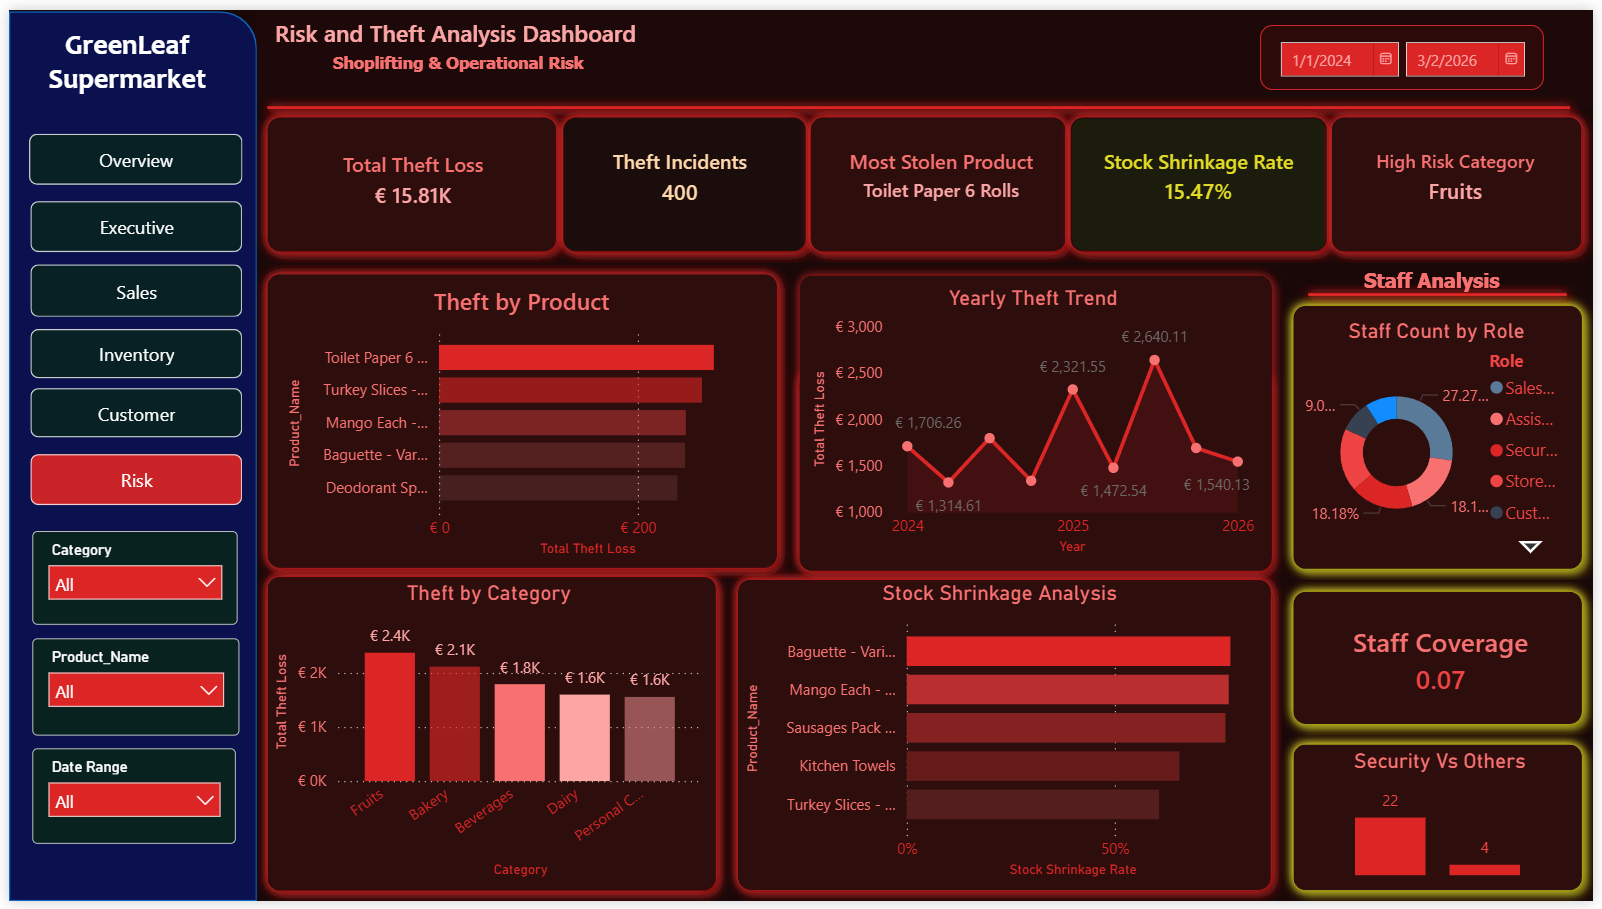

This screenshot's page, from the dashboard's own definition file:
{"tool":"powerbi","page":{"name":"Risk ","canvas":[1280,720],"ordinal":5},"visuals":[{"type":"group","id":"g1","title":"Group 1","box":[0,0,1280.3,720.4],"z":0},{"type":"shape","box":[200.3,0,1079.9,78.2],"z":0,"group":"g1"},{"type":"shape","box":[200.3,0,1079.9,78.2],"z":0,"group":"g2"},{"type":"shape","box":[0,1.4,200.3,719],"z":0,"group":"g3"},{"type":"shape","box":[0,1.4,200.3,719],"z":0,"group":"g7"},{"type":"shape","box":[1029.1,461.1,251.1,124.9],"z":0,"group":"g6"},{"type":"group","id":"g2","title":"Group 1","box":[0,0,1280.3,720.4],"z":1000},{"type":"textbox","box":[209.9,0,306,49.4],"z":1000,"group":"g1"},{"type":"actionButton","box":[11,100.2,182.5,41.2],"z":1000,"group":"g3"},{"type":"actionButton","box":[11,100.2,182.5,41.2],"z":1000,"group":"g7"},{"type":"shape","box":[1029.2,461.1,251.1,124.9],"z":1000,"group":"g2"},{"type":"shape","box":[1029.1,584.6,251.1,135.8],"z":1000,"group":"g6"},{"type":"textbox","box":[209.9,0,306,49.4],"z":2000,"group":"g2"},{"type":"textbox","box":[256.6,27.4,259.3,31.6],"z":2000,"group":"g1"},{"type":"actionButton","box":[12.3,155.1,181.1,41.2],"z":2000,"group":"g3"},{"type":"actionButton","box":[12.3,155.1,181.1,41.2],"z":2000,"group":"g7"},{"type":"shape","box":[200.3,448.8,380.1,271.7],"z":2000,"group":"g6"},{"type":"shape","box":[200.3,64.5,1070.3,28.8],"z":3000,"group":"g1"},{"type":"shape","box":[580.4,451.5,448.7,269],"z":3000,"group":"g6"},{"type":"shape","box":[1029.2,584.6,251.1,135.8],"z":3000,"group":"g2"},{"type":"slicer","fields":{"Values":["Theftlog_dataset.Date"]},"box":[1011.3,12.3,229.2,52.1],"z":4000,"group":"g1"},{"type":"textbox","box":[256.6,27.4,259.3,31.6],"z":4000,"group":"g2"},{"type":"actionButton","box":[12.3,205.9,181.1,42.5],"z":4000,"group":"g3"},{"type":"actionButton","box":[12.3,205.9,181.1,42.5],"z":4000,"group":"g7"},{"type":"clusteredColumnChart","title":"Theft by Category","fields":{"Category":["Products_dataset.Category"],"Y":["Theftlog_dataset.Total Theft Loss"]},"box":[209.9,461.1,355.4,244.3],"z":4000,"group":"g6"},{"type":"shape","box":[1041.5,215.4,226.4,28.8],"z":5000,"group":"g1"},{"type":"shape","box":[200.3,448.7,380.1,271.7],"z":5000,"group":"g2"},{"type":"barChart","title":"Stock Shrinkage Analysis","fields":{"Category":["Products_dataset.Product_Name"],"Y":["Theftlog_dataset.Stock Shrinkage Rate"]},"box":[590,461.1,421.3,244.3],"z":5000,"group":"g6"},{"type":"shape","box":[200.3,64.5,1070.3,28.8],"z":6000,"group":"g2"},{"type":"textbox","box":[1089.5,203.1,133.1,41.2],"z":6000,"group":"g1"},{"type":"actionButton","box":[12.3,258,181.1,39.8],"z":6000,"group":"g3"},{"type":"actionButton","box":[12.3,258,181.1,39.8],"z":6000,"group":"g7"},{"type":"cardVisual","fields":{"Data":["Theftlog_dataset.Staff Coverage"]},"box":[1044.2,477.6,225,93.3],"z":6000,"group":"g6"},{"type":"shape","box":[580.4,451.5,448.7,269],"z":7000,"group":"g2"},{"type":"clusteredColumnChart","title":"Security Vs Others","fields":{"Category":["Staff_dataset.Staff Type"],"Y":["Theftlog_dataset.Staff Count"]},"box":[1044.2,597,223.7,108.4],"z":7000,"group":"g6"},{"type":"group","id":"g3","title":"Group 2","box":[0,1.4,200.3,719],"z":8000,"group":"g1"},{"type":"slicer","fields":{"Values":["Theftlog_dataset.Date"]},"box":[1011.3,12.3,229.2,52.1],"z":8000,"group":"g2"},{"type":"group","id":"g4","title":"Group 4","box":[200.3,204.5,1079.9,257.3],"z":8000,"group":"g6"},{"type":"actionButton","box":[12.3,306,181.1,39.8],"z":8000,"group":"g3"},{"type":"actionButton","box":[12.3,306,181.1,39.8],"z":8000,"group":"g7"},{"type":"group","id":"g5","title":"Group 3","box":[200.3,78.2,1079.9,126.2],"z":9000,"group":"g1"},{"type":"clusteredColumnChart","title":"Theft by Category","fields":{"Category":["Products_dataset.Category"],"Y":["Theftlog_dataset.Total Theft Loss"]},"box":[209.9,461.1,355.4,244.3],"z":9000,"group":"g2"},{"type":"group","id":"g6","title":"Group 5","box":[200.3,204.5,1079.9,516],"z":10000,"group":"g1"},{"type":"actionButton","box":[12.3,359.5,181.1,41.2],"z":10000,"group":"g3"},{"type":"actionButton","box":[12.3,359.5,181.1,41.2],"z":10000,"group":"g7"},{"type":"barChart","title":"Stock Shrinkage Analysis","fields":{"Category":["Products_dataset.Product_Name"],"Y":["Theftlog_dataset.Stock Shrinkage Rate"]},"box":[590.1,461.1,421.3,244.3],"z":10000,"group":"g2"},{"type":"shape","box":[1041.5,215.4,226.4,28.8],"z":11000,"group":"g2"},{"type":"slicer","fields":{"Values":["Products_dataset.Category"]},"box":[19.2,421.3,166,75.5],"z":12000,"group":"g3"},{"type":"slicer","fields":{"Values":["Products_dataset.Category"]},"box":[19.2,421.3,166,75.5],"z":12000,"group":"g7"},{"type":"cardVisual","fields":{"Data":["Theftlog_dataset.Staff Coverage"]},"box":[1044.3,477.5,225,93.3],"z":12000,"group":"g2"},{"type":"shape","box":[200.3,78.2,251.1,126.2],"z":13000,"group":"g5"},{"type":"shape","box":[200.3,78.2,251.1,126.2],"z":13000,"group":"g8"},{"type":"textbox","box":[1089.5,203.1,133.1,41.2],"z":13000,"group":"g2"},{"type":"slicer","fields":{"Values":["Products_dataset.Product_Name"]},"box":[19.2,507.7,167.4,78.2],"z":14000,"group":"g3"},{"type":"slicer","fields":{"Values":["Products_dataset.Product_Name"]},"box":[19.2,507.7,167.4,78.2],"z":14000,"group":"g7"},{"type":"clusteredColumnChart","title":"Security Vs Others","fields":{"Category":["Staff_dataset.Staff Type"],"Y":["Theftlog_dataset.Staff Count"]},"box":[1044.3,596.9,223.7,108.4],"z":14000,"group":"g2"},{"type":"cardVisual","fields":{"Data":["Theftlog_dataset.Total Theft Loss"]},"box":[230.5,97.4,193.5,81],"z":15000,"group":"g5"},{"type":"cardVisual","fields":{"Data":["Theftlog_dataset.Total Theft Loss"]},"box":[230.5,97.4,193.5,81],"z":15000,"group":"g8"},{"type":"lineChart","title":"Yearly Theft Trend","fields":{"Category":["Theftlog_dataset.Date.Variation.Date Hierarchy.Year","Theftlog_dataset.Date.Variation.Date Hierarchy.Quarter","Theftlog_dataset.Date.Variation.Date Hierarchy.Month","Theftlog_dataset.Date.Variation.Date Hierarchy.Day"],"Y":["Theftlog_dataset.Total Theft Loss"]},"box":[644.9,222.3,366.4,222.3],"z":15000},{"type":"group","id":"g7","title":"Group 2","box":[0,1.4,200.3,719],"z":16000,"group":"g2"},{"type":"shape","box":[439.1,78.2,214.1,126.2],"z":16000,"group":"g5"},{"type":"shape","box":[439.1,78.2,214.1,126.2],"z":16000,"group":"g8"},{"type":"textbox","title":"GreenLeaf Supermarket","box":[2.7,13.7,186.6,64.5],"z":17000,"group":"g3"},{"type":"textbox","title":"GreenLeaf Supermarket","box":[2.7,13.7,186.6,64.5],"z":17000,"group":"g7"},{"type":"group","id":"g8","title":"Group 3","box":[200.3,78.2,1079.9,126.2],"z":17000,"group":"g2"},{"type":"shape","box":[639.4,78.2,223.7,126.2],"z":18000,"group":"g5"},{"type":"shape","box":[639.4,78.2,223.7,126.2],"z":18000,"group":"g8"},{"type":"shape","box":[1029.2,230.5,251.1,230.5],"z":18000,"group":"g2"},{"type":"shape","box":[200.3,204.5,429.5,255.2],"z":19000,"group":"g2"},{"type":"slicer","fields":{"Values":["Theftlog_dataset.Date"]},"box":[19.2,596.9,164.7,76.8],"z":19000,"group":"g3"},{"type":"slicer","fields":{"Values":["Theftlog_dataset.Date"]},"box":[19.2,596.9,164.7,76.8],"z":19000,"group":"g7"},{"type":"shape","box":[849.4,78.2,225,126.2],"z":20000,"group":"g5"},{"type":"shape","box":[849.4,78.2,225,126.2],"z":20000,"group":"g8"},{"type":"shape","box":[629.8,205.8,399.3,256.6],"z":20000,"group":"g2"},{"type":"shape","box":[1060.7,78.2,219.6,126.2],"z":21000,"group":"g5"},{"type":"shape","box":[1060.7,78.2,219.6,126.2],"z":21000,"group":"g8"},{"type":"clusteredBarChart","title":"Theft by Product","fields":{"Category":["Products_dataset.Product_Name"],"Y":["Theftlog_dataset.Total Theft Loss"]},"box":[219.6,222.3,388.3,223.7],"z":21000,"group":"g2"},{"type":"shape","box":[1029.1,230.6,251.1,230.5],"z":22000,"group":"g4"},{"type":"donutChart","fields":{"Category":["Staff_dataset.Column2"],"Y":["Theftlog_dataset.Staff Count"]},"box":[1041.5,248.4,225,197.6],"z":22000,"group":"g2"},{"type":"shape","box":[200.3,204.5,429.5,255.2],"z":25000,"group":"g4"},{"type":"shape","box":[629.3,283.5,399.3,178.4],"z":26000,"group":"g4"},{"type":"cardVisual","fields":{"Data":["Theftlog_dataset.Theft Incidents"]},"box":[445.9,94.7,193.5,81],"z":31000,"group":"g5"},{"type":"cardVisual","fields":{"Data":["Theftlog_dataset.Theft Incidents"]},"box":[445.9,94.7,193.5,81],"z":31000,"group":"g8"},{"type":"cardVisual","fields":{"Data":["Theftlog_dataset.Most Stolen Product"]},"box":[644.9,89.2,218.2,89.2],"z":32000,"group":"g5"},{"type":"cardVisual","fields":{"Data":["Theftlog_dataset.Most Stolen Product"]},"box":[644.9,89.2,218.2,89.2],"z":32000,"group":"g8"},{"type":"cardVisual","fields":{"Data":["Theftlog_dataset.Stock Shrinkage Rate"]},"box":[849.4,89.2,225,90.6],"z":33000,"group":"g5"},{"type":"cardVisual","fields":{"Data":["Theftlog_dataset.Stock Shrinkage Rate"]},"box":[849.4,89.2,225,90.6],"z":33000,"group":"g8"},{"type":"cardVisual","fields":{"Data":["Theftlog_dataset.High Risk Category"]},"box":[1073,79.6,193.5,111.1],"z":34000,"group":"g5"},{"type":"cardVisual","fields":{"Data":["Theftlog_dataset.High Risk Category"]},"box":[1073,79.6,193.5,111.1],"z":34000,"group":"g8"},{"type":"clusteredBarChart","title":"Theft by Product","fields":{"Category":["Products_dataset.Product_Name"],"Y":["Theftlog_dataset.Total Theft Loss"]},"box":[219.5,222.3,388.3,223.7],"z":35000,"group":"g4"},{"type":"donutChart","fields":{"Category":["Staff_dataset.Column2"],"Y":["Theftlog_dataset.Staff Count"]},"box":[1041.5,248.4,225,197.6],"z":39000,"group":"g4"}]}

Visuals, with their boxes in screenshot pixels (x1, y1, x2, y2), scaled from the page's 1280x720 canvas onto the 1602x909 screenshot:
"Group 1" group: <box>0,0,1601,908</box>
shape: <box>251,0,1601,99</box>
shape: <box>251,0,1601,99</box>
shape: <box>0,2,251,908</box>
shape: <box>0,2,251,908</box>
shape: <box>1288,582,1601,740</box>
"Group 1" group: <box>0,0,1601,908</box>
textbox: <box>263,0,646,62</box>
actionButton: <box>14,127,242,179</box>
actionButton: <box>14,127,242,179</box>
shape: <box>1288,582,1601,740</box>
shape: <box>1288,738,1601,908</box>
textbox: <box>263,0,646,62</box>
textbox: <box>321,35,646,74</box>
actionButton: <box>15,196,242,248</box>
actionButton: <box>15,196,242,248</box>
shape: <box>251,567,726,908</box>
shape: <box>251,81,1590,118</box>
shape: <box>726,570,1288,908</box>
shape: <box>1288,738,1601,908</box>
slicer - Theftlog_dataset.Date: <box>1266,16,1553,81</box>
textbox: <box>321,35,646,74</box>
actionButton: <box>15,260,242,314</box>
actionButton: <box>15,260,242,314</box>
"Theft by Category" clusteredColumnChart: <box>263,582,708,891</box>
shape: <box>1304,272,1587,308</box>
shape: <box>251,566,726,908</box>
"Stock Shrinkage Analysis" barChart: <box>738,582,1266,891</box>
shape: <box>251,81,1590,118</box>
textbox: <box>1364,256,1530,308</box>
actionButton: <box>15,326,242,376</box>
actionButton: <box>15,326,242,376</box>
cardVisual - Theftlog_dataset.Staff Coverage: <box>1307,603,1588,721</box>
shape: <box>726,570,1288,908</box>
"Security Vs Others" clusteredColumnChart: <box>1307,754,1587,891</box>
"Group 2" group: <box>0,2,251,908</box>
slicer - Theftlog_dataset.Date: <box>1266,16,1553,81</box>
"Group 4" group: <box>251,258,1601,583</box>
actionButton: <box>15,386,242,437</box>
actionButton: <box>15,386,242,437</box>
"Group 3" group: <box>251,99,1601,258</box>
"Theft by Category" clusteredColumnChart: <box>263,582,708,891</box>
"Group 5" group: <box>251,258,1601,908</box>
actionButton: <box>15,454,242,506</box>
actionButton: <box>15,454,242,506</box>
"Stock Shrinkage Analysis" barChart: <box>739,582,1266,891</box>
shape: <box>1304,272,1587,308</box>
slicer - Products_dataset.Category: <box>24,532,232,627</box>
slicer - Products_dataset.Category: <box>24,532,232,627</box>
cardVisual - Theftlog_dataset.Staff Coverage: <box>1307,603,1589,721</box>
shape: <box>251,99,565,258</box>
shape: <box>251,99,565,258</box>
textbox: <box>1364,256,1530,308</box>
slicer - Products_dataset.Product_Name: <box>24,641,234,740</box>
slicer - Products_dataset.Product_Name: <box>24,641,234,740</box>
"Security Vs Others" clusteredColumnChart: <box>1307,754,1587,890</box>
cardVisual - Theftlog_dataset.Total Theft Loss: <box>288,123,531,225</box>
cardVisual - Theftlog_dataset.Total Theft Loss: <box>288,123,531,225</box>
"Yearly Theft Trend" lineChart: <box>807,281,1266,561</box>
"Group 2" group: <box>0,2,251,908</box>
shape: <box>550,99,818,258</box>
shape: <box>550,99,818,258</box>
"GreenLeaf Supermarket" textbox: <box>3,17,237,99</box>
"GreenLeaf Supermarket" textbox: <box>3,17,237,99</box>
"Group 3" group: <box>251,99,1601,258</box>
shape: <box>800,99,1080,258</box>
shape: <box>800,99,1080,258</box>
shape: <box>1288,291,1601,582</box>
shape: <box>251,258,788,580</box>
slicer - Theftlog_dataset.Date: <box>24,754,230,851</box>
slicer - Theftlog_dataset.Date: <box>24,754,230,851</box>
shape: <box>1063,99,1345,258</box>
shape: <box>1063,99,1345,258</box>
shape: <box>788,260,1288,584</box>
shape: <box>1328,99,1601,258</box>
shape: <box>1328,99,1601,258</box>
"Theft by Product" clusteredBarChart: <box>275,281,761,563</box>
shape: <box>1288,291,1601,582</box>
donutChart - Staff_dataset.Column2 x Theftlog_dataset.Staff Count: <box>1304,314,1585,563</box>
shape: <box>251,258,788,580</box>
shape: <box>788,358,1287,583</box>
cardVisual - Theftlog_dataset.Theft Incidents: <box>558,120,800,222</box>
cardVisual - Theftlog_dataset.Theft Incidents: <box>558,120,800,222</box>
cardVisual - Theftlog_dataset.Most Stolen Product: <box>807,113,1080,225</box>
cardVisual - Theftlog_dataset.Most Stolen Product: <box>807,113,1080,225</box>
cardVisual - Theftlog_dataset.Stock Shrinkage Rate: <box>1063,113,1345,227</box>
cardVisual - Theftlog_dataset.Stock Shrinkage Rate: <box>1063,113,1345,227</box>
cardVisual - Theftlog_dataset.High Risk Category: <box>1343,100,1585,241</box>
cardVisual - Theftlog_dataset.High Risk Category: <box>1343,100,1585,241</box>
"Theft by Product" clusteredBarChart: <box>275,281,761,563</box>
donutChart - Staff_dataset.Column2 x Theftlog_dataset.Staff Count: <box>1304,314,1585,563</box>
